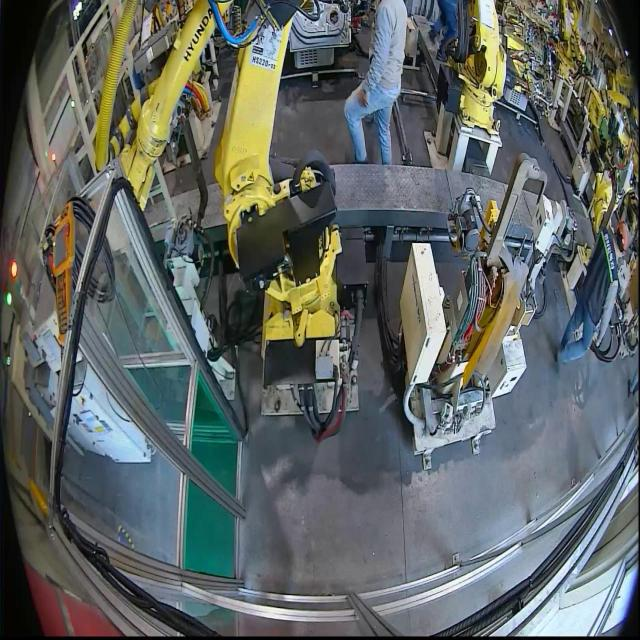Person: (554, 199, 632, 376), (344, 0, 408, 164), (428, 0, 458, 62)
